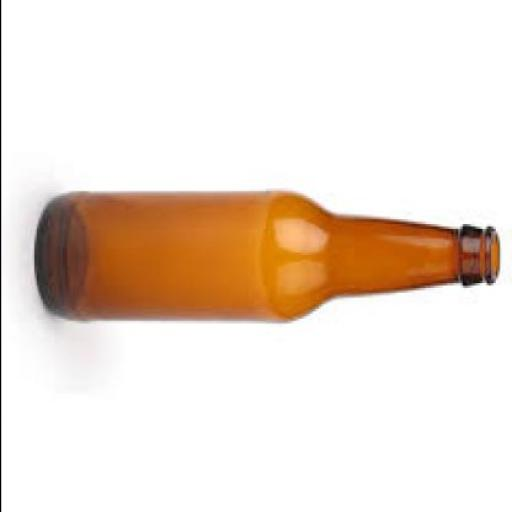glass: (36, 193, 503, 326)
